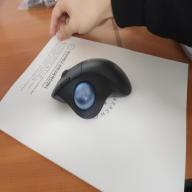mouse: (52, 59, 132, 119)
